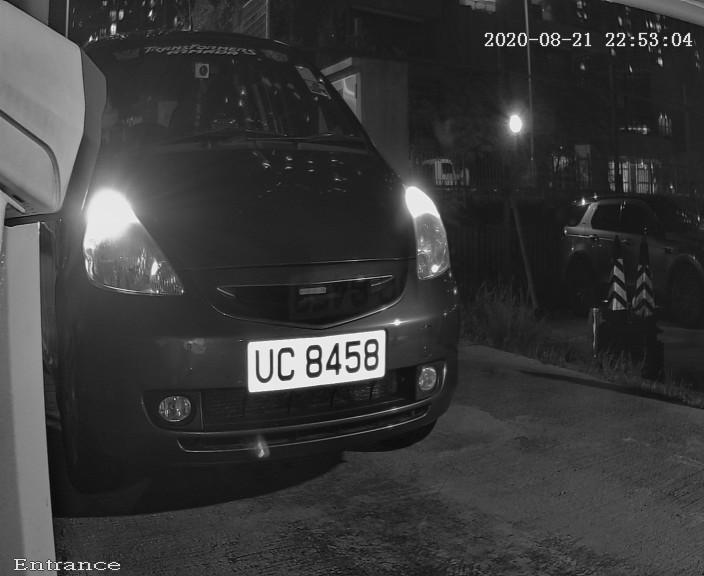Car: (1, 6, 519, 533)
License Plate: (236, 322, 397, 404)
